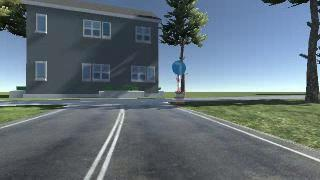turn_left: (171, 61, 186, 75)
